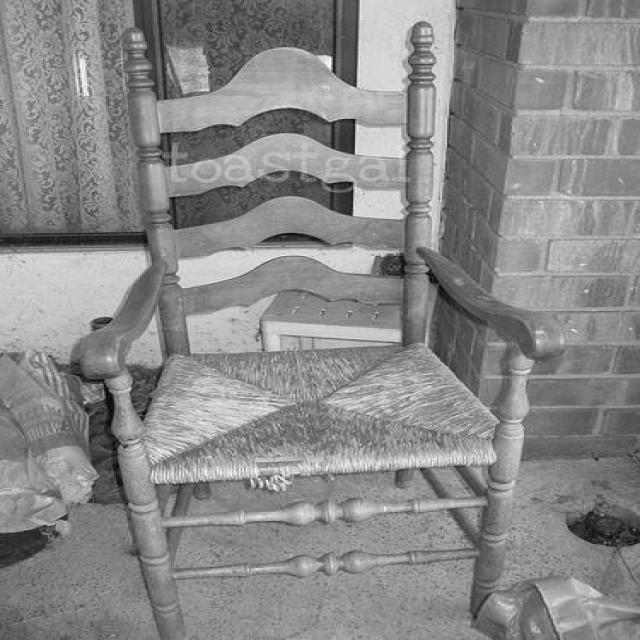chair: (75, 27, 569, 629)
